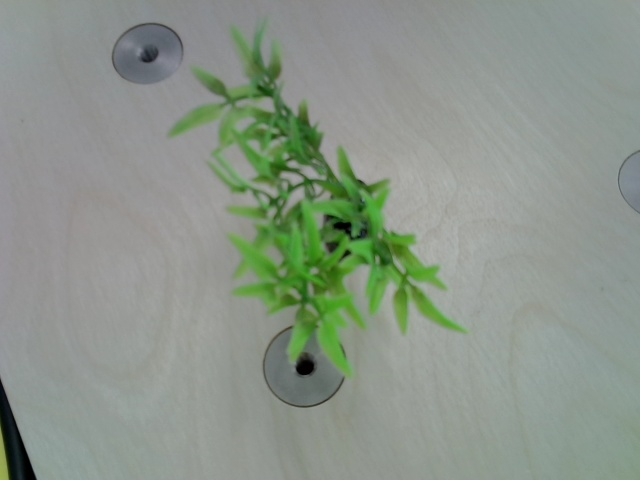튤립새싹: (170, 23, 427, 363)
